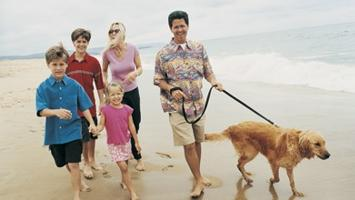person: (155, 11, 224, 197)
